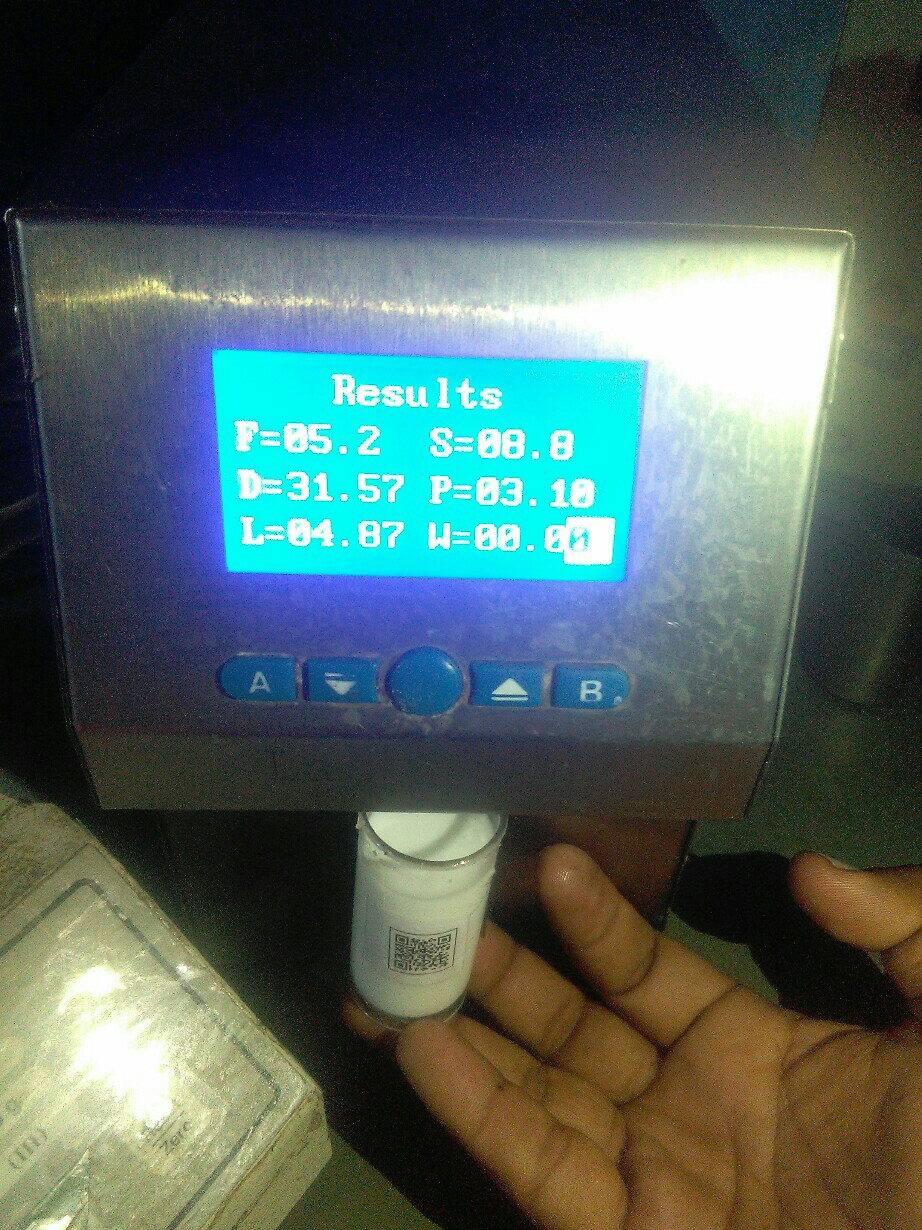lcd: (192, 333, 666, 609)
qr: (377, 920, 473, 994)
